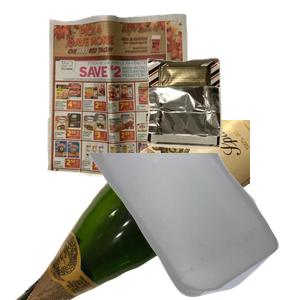glass: (13, 120, 253, 300)
paper: (44, 11, 229, 181)
plastic: (84, 153, 300, 300)
trash: (144, 55, 300, 197)
